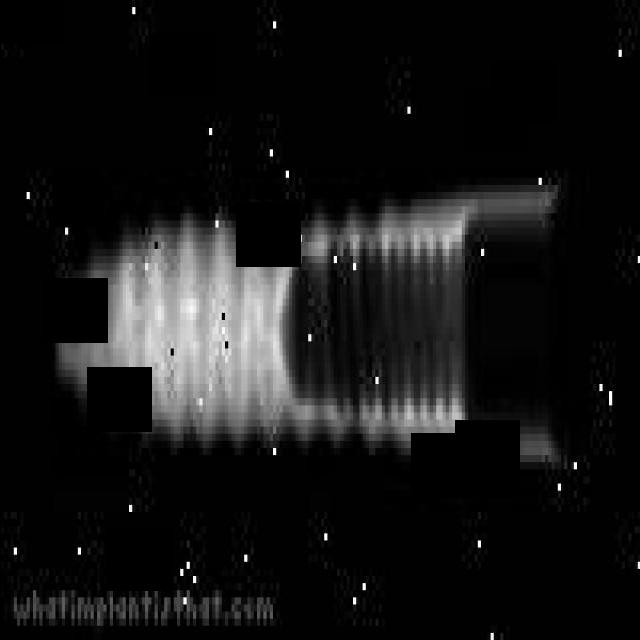Osstem Implant: (47, 165, 563, 476)
